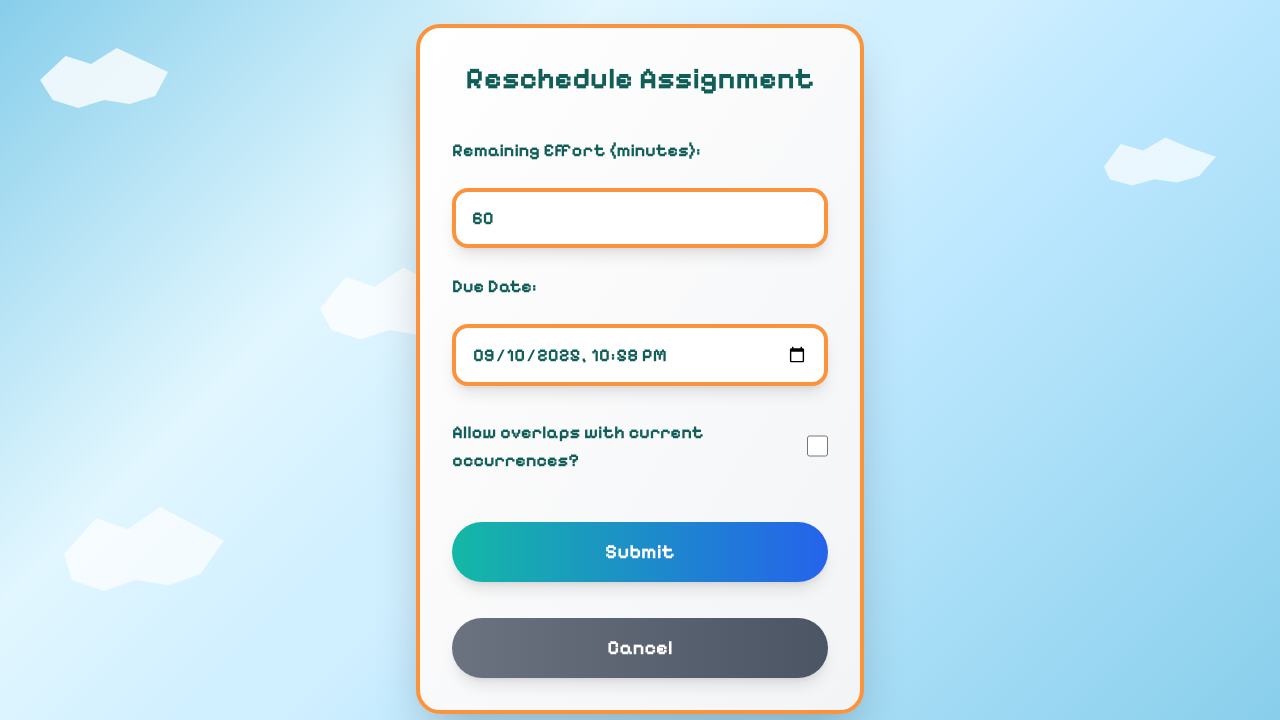
Test case: RescheduleScreen Component › handles missing backend URL or token
The width and height of the screenshot is (1280, 720).
Step 1. Click the button "Submit" → [640, 552], box [452, 522, 828, 582]
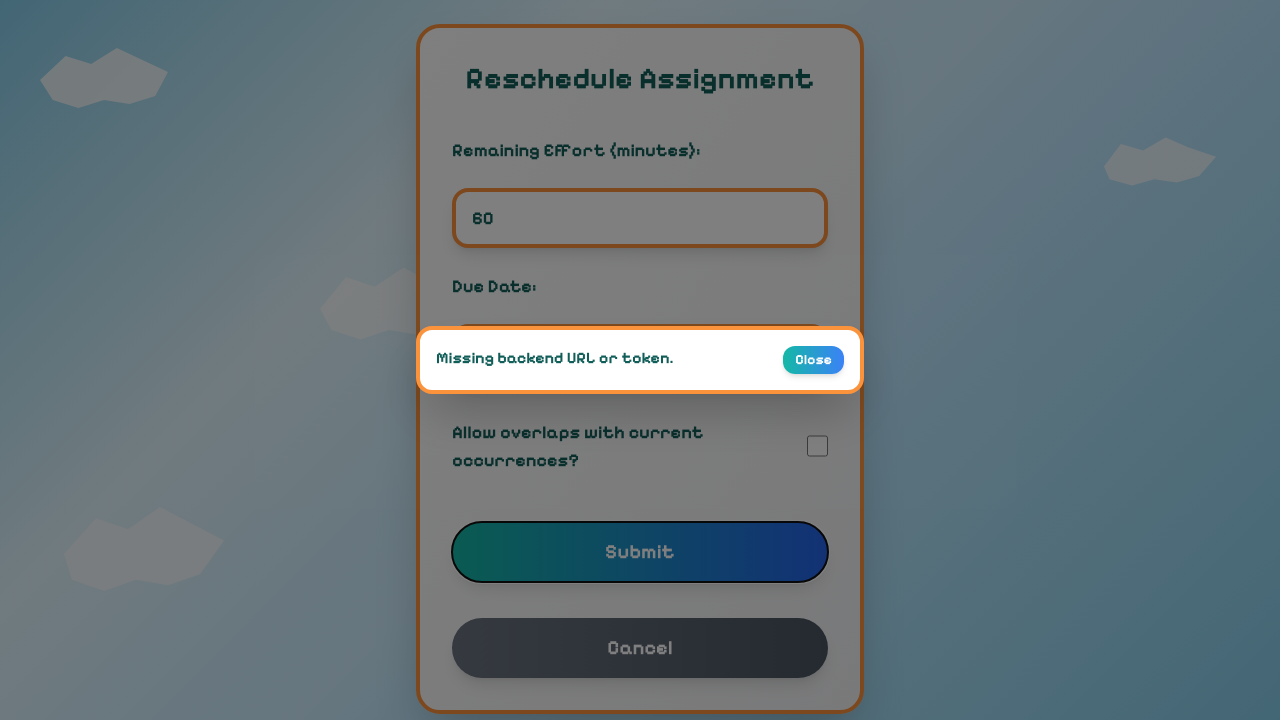
Check: the text with test id "app-popup-message" reads "Missing backend URL or token.", box [436, 348, 674, 367]
